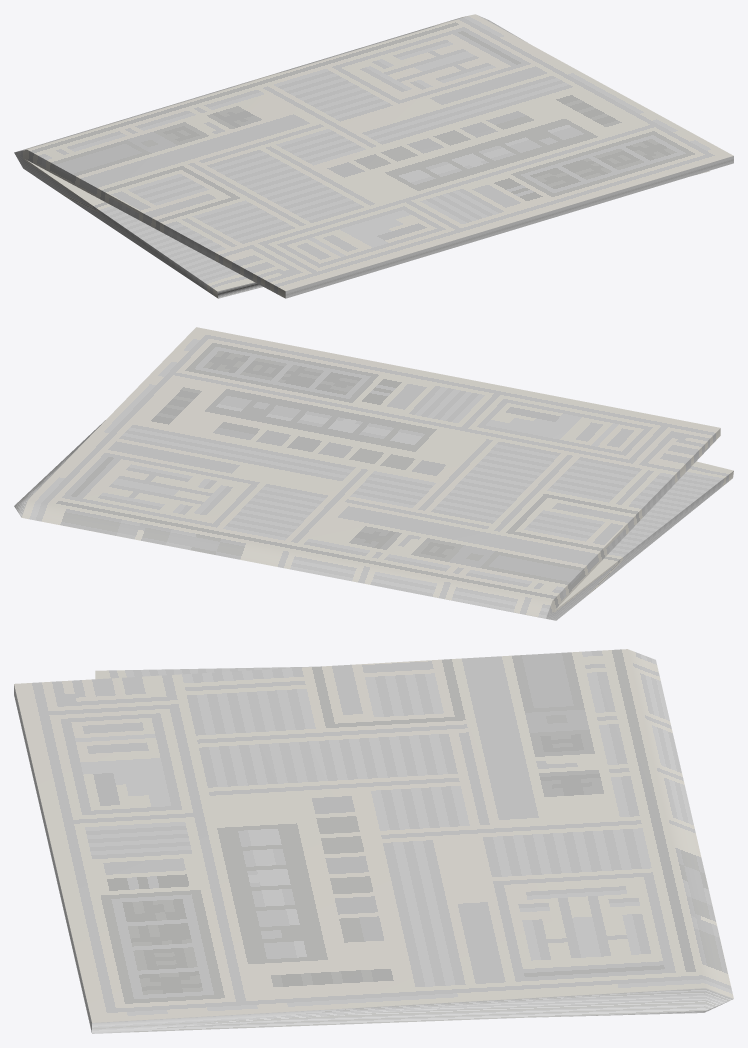
The model's file is 0386_Newspaper.glb.
3 views of the same model, one above another, from view 1: azimuth 30°, elevation 25°; view 2: azimuth 150°, elevation 25°; view 3: azimuth 270°, elevation 25° (orthographic). The views are drawn at different scales.
Parts seen in each view (by area): view 1: part_0; view 2: part_0; view 3: part_0.
Boxes of the visible parts, x1,y1,x2,y2 form: part_0: [14, 14, 733, 298]; part_0: [14, 327, 733, 620]; part_0: [14, 649, 733, 1033].
Size of the model in its own units: 0.304 by 0.01 by 0.2456.
1 material, 1 textured.
